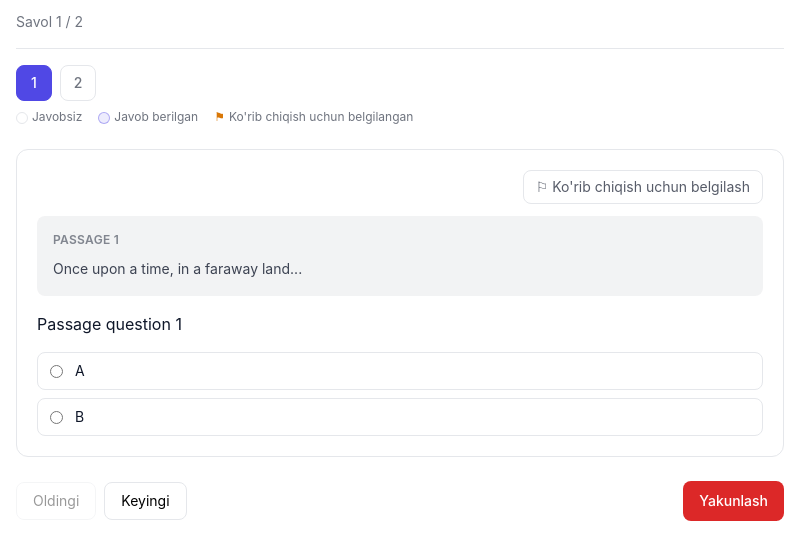
Test: AttemptPage — Sprint 77 QuestionGroup/stimulus_text delivery › two questions in the same group both show the identical stimulus when navigated between
Expected: the text "Passage question 1" is shown, [37, 314, 182, 334]
Expected: the element with test id "group-stimulus" shows "Once upon a time", [53, 260, 302, 277]
Click the button "Keyingi".
click(145, 501)  # box [104, 482, 187, 520]
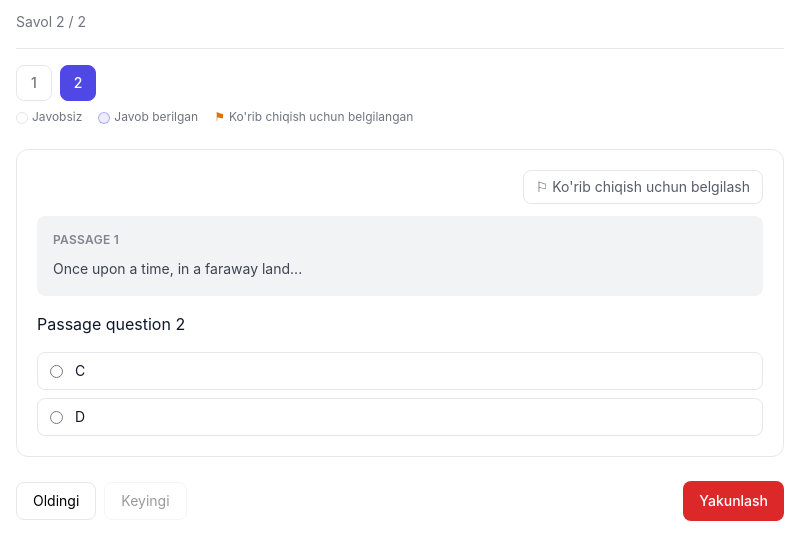
Expected: the element with test id "group-stimulus" shows "Once upon a time", [53, 260, 302, 277]
Now the text "Passage question 2" is shown, box [37, 314, 185, 334]
